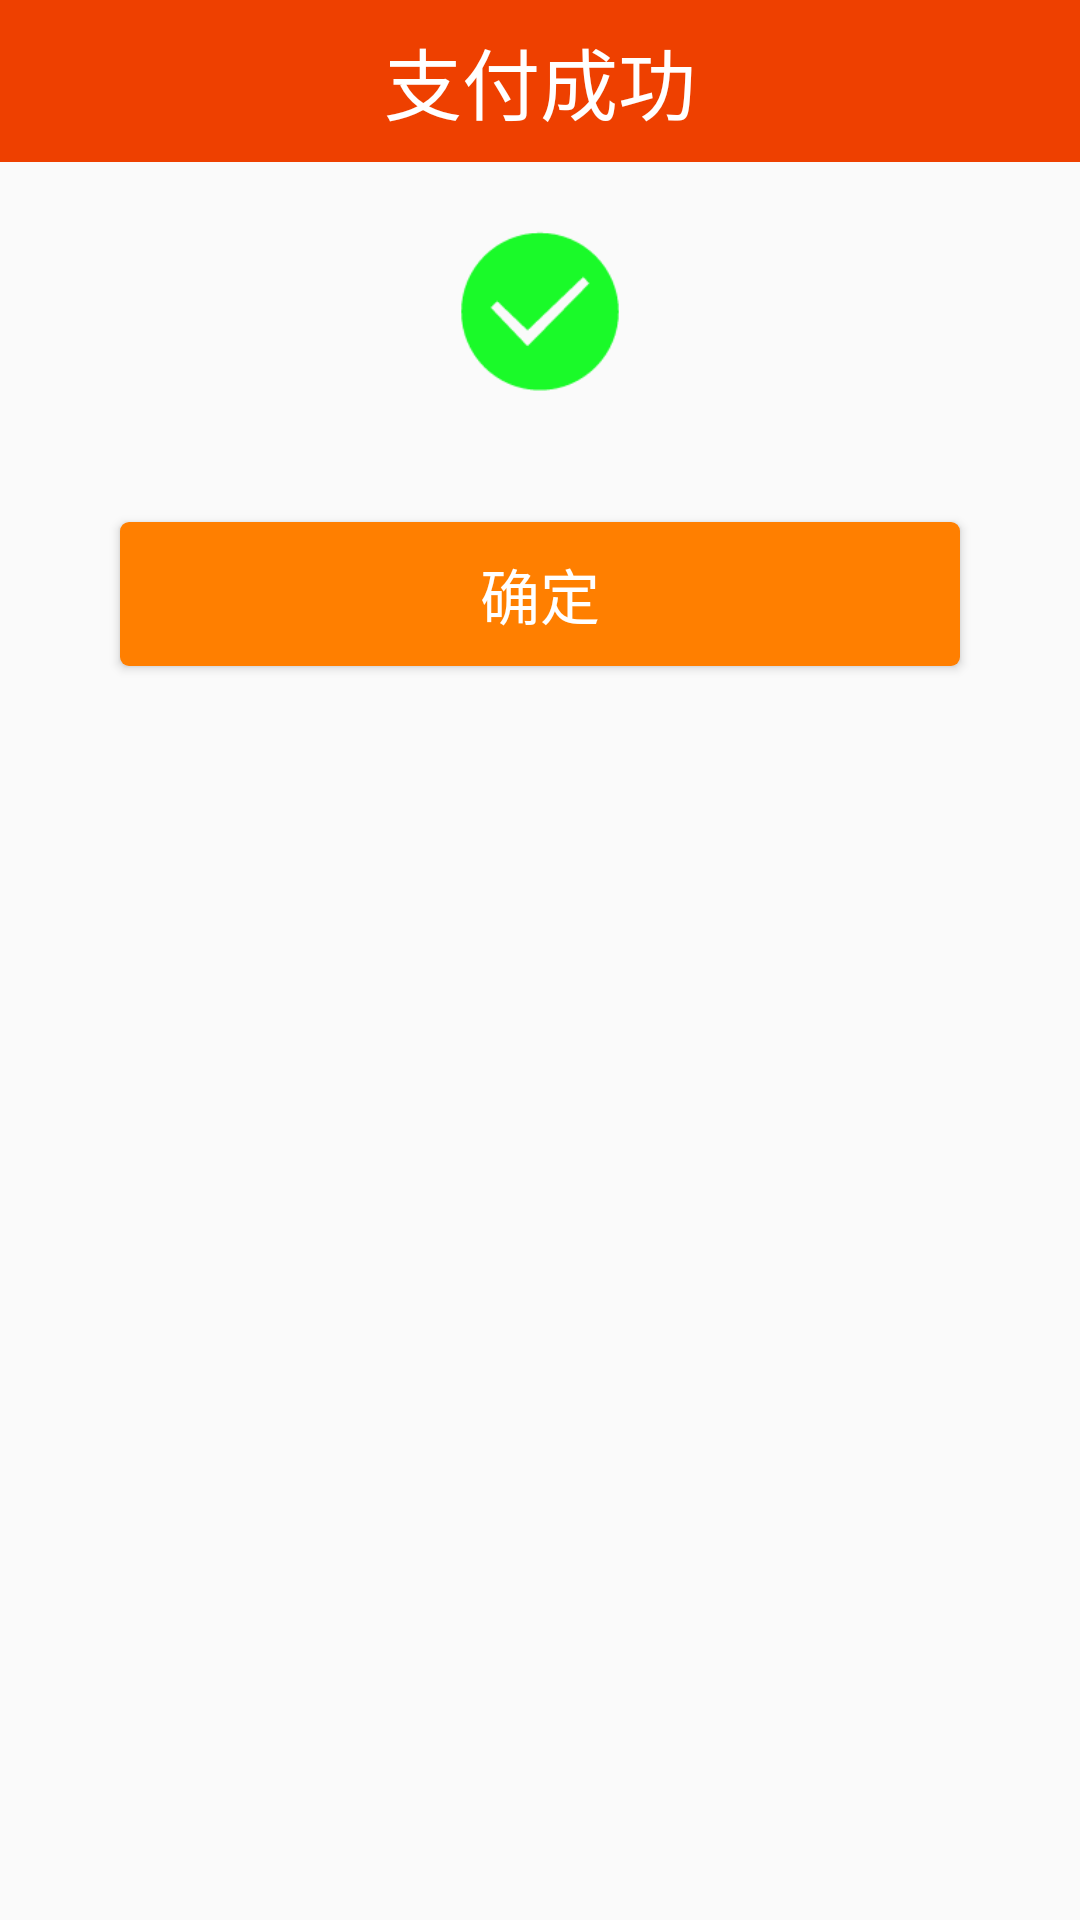

Screen size 1080 × 1920. Icon name, then its center in pixels as point (x, y):
succeed payed: point (540, 311)
